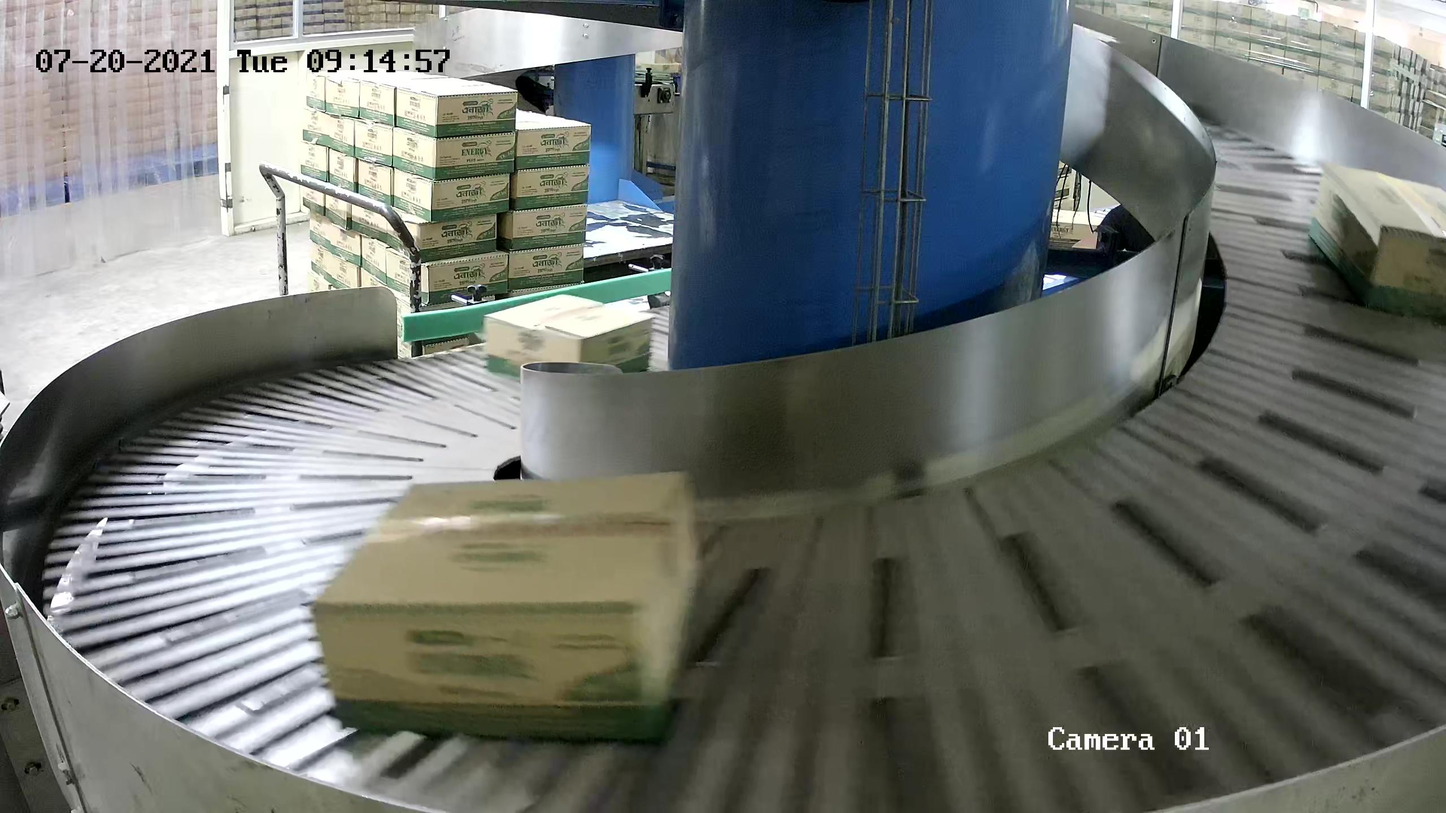Box: (315, 469, 701, 745), (1308, 163, 1446, 325), (484, 294, 655, 394)
